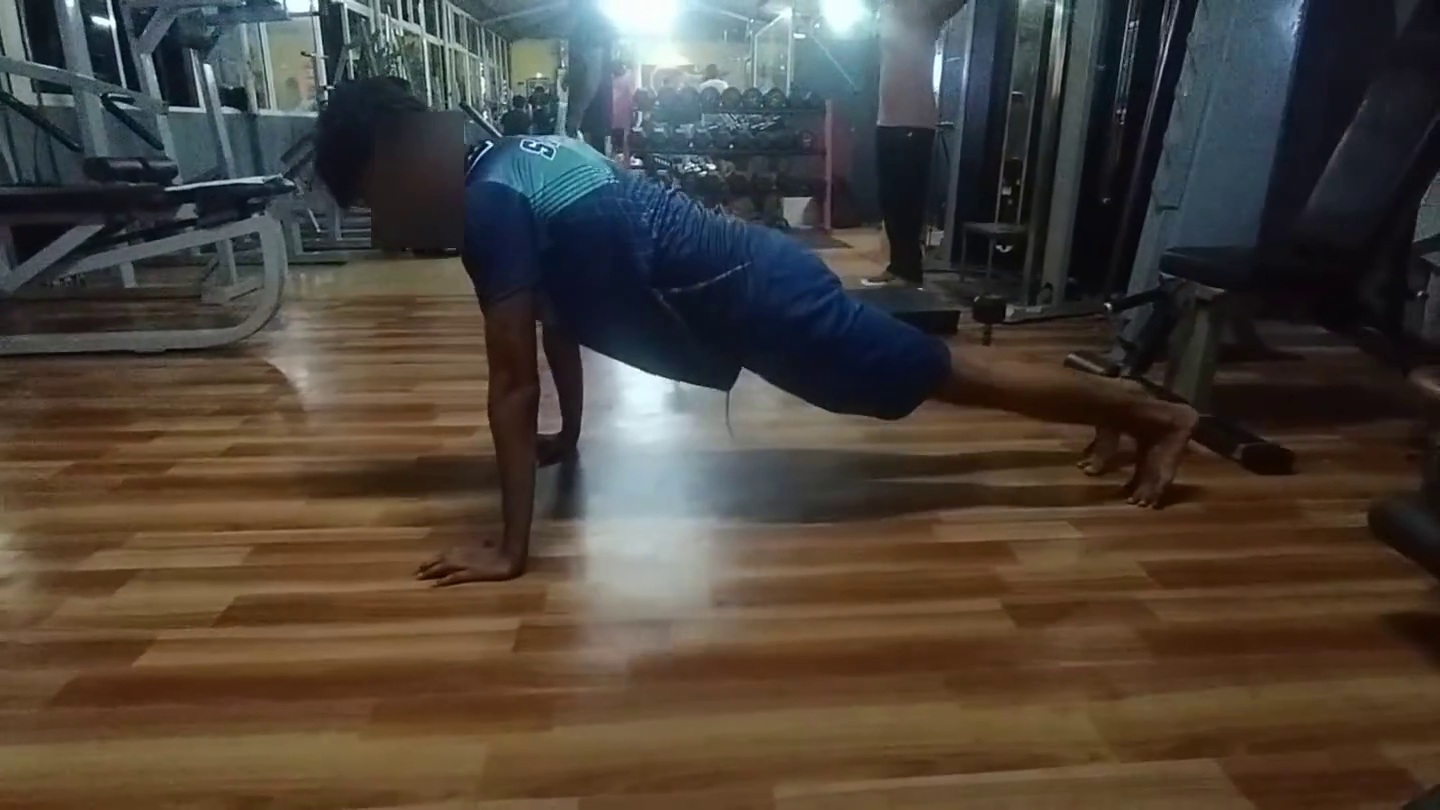push_up: (299, 97, 1263, 657)
